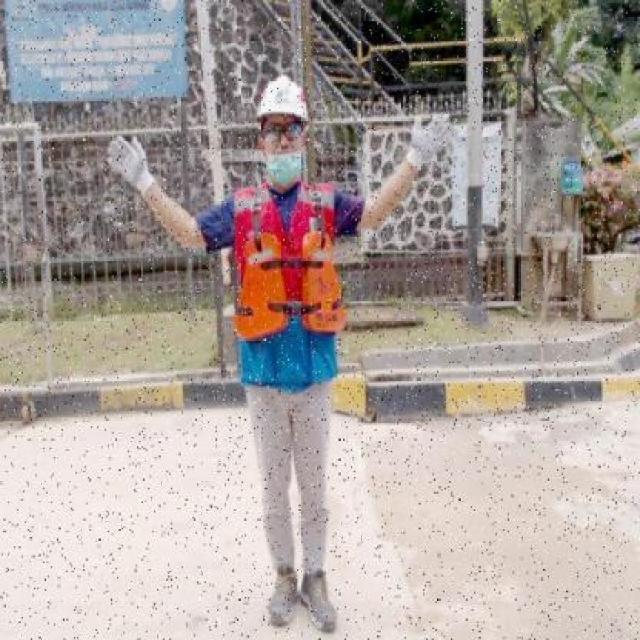Boots: (300, 566, 338, 634), (266, 563, 296, 628)
Gloves: (102, 127, 160, 202), (402, 105, 456, 173)
Helmet: (256, 74, 312, 120)
Mask: (267, 153, 302, 190)
Protective Glasses: (262, 120, 304, 142)
Vest: (235, 237, 347, 338)
